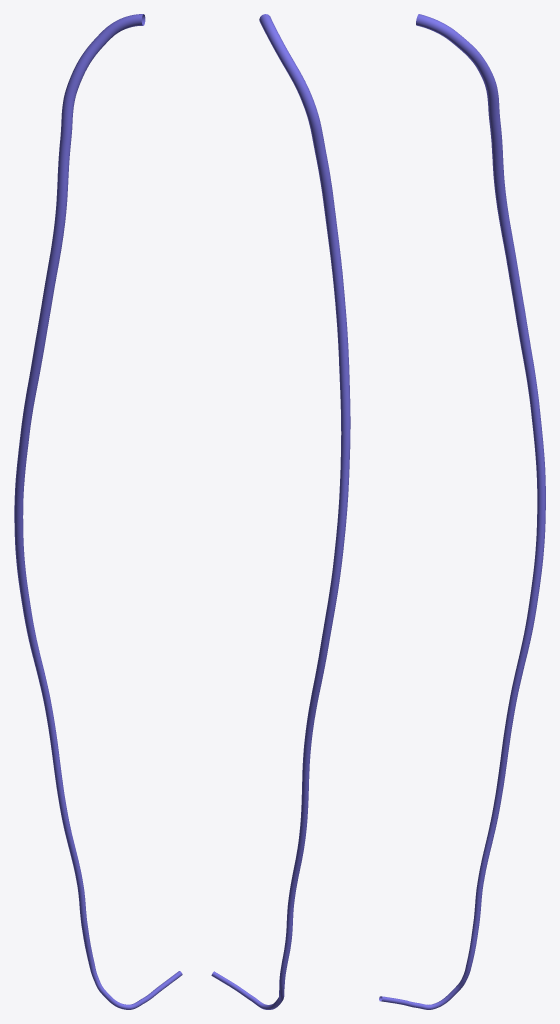
File: Small_saphenous_vein.l_BezierCurve.321.glb
3 renders of one model, left to right at view 1: azimuth 90°, elevation 25°; view 2: azimuth 210°, elevation 25°; view 3: azimuth 270°, elevation 25°, orthographic.
Parts seen in each view (by area): view 1: Small_saphenous_vein.l_BezierCurve.321; view 2: Small_saphenous_vein.l_BezierCurve.321; view 3: Small_saphenous_vein.l_BezierCurve.321.
Boxes of the visible parts, x1,y1,x2,y2 form: Small_saphenous_vein.l_BezierCurve.321: (14,14,182,1009); Small_saphenous_vein.l_BezierCurve.321: (211,14,350,1009); Small_saphenous_vein.l_BezierCurve.321: (379,14,545,1009).
Size of the model in its own units: 0.033 by 0.4568 by 0.0697.
